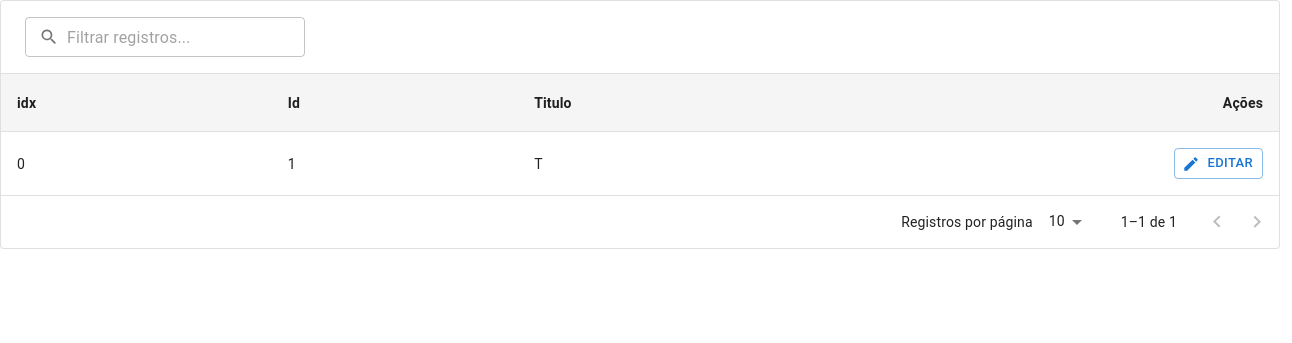
Test: ExternalScreen — submit do edit (st-4) › quando edit tem bodyPath, o payload fica dentro do campo especificado
Click the button "Editar" at (1218, 164), box [1174,148,1263,179]
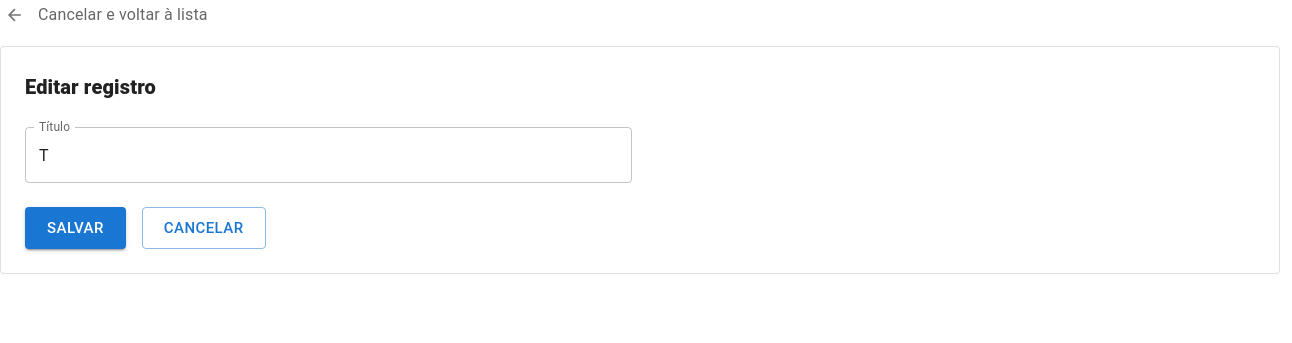
Expected: the heading "Editar registro" is shown, [25,75,156,99]
Replace the text in the field showing "T" with "X" at (328, 155), box [25,127,632,183]
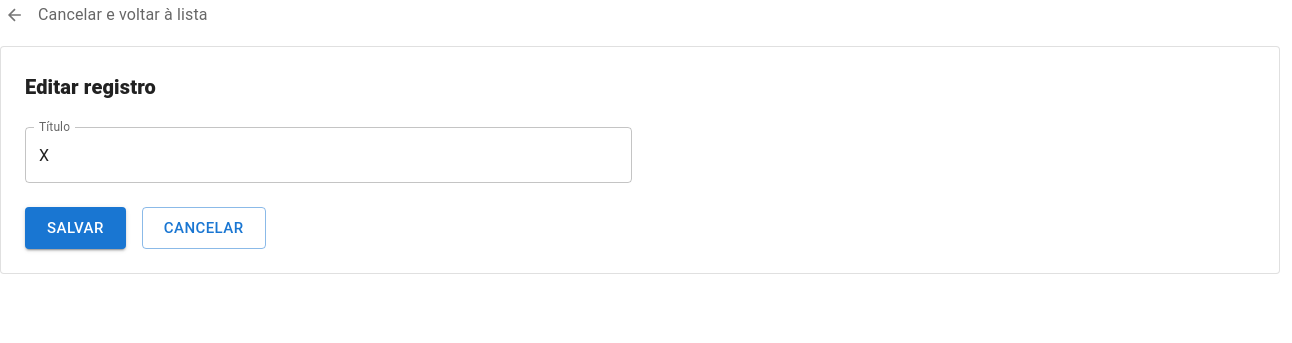
Click the button "Salvar" at (75, 228), box [25,207,126,249]
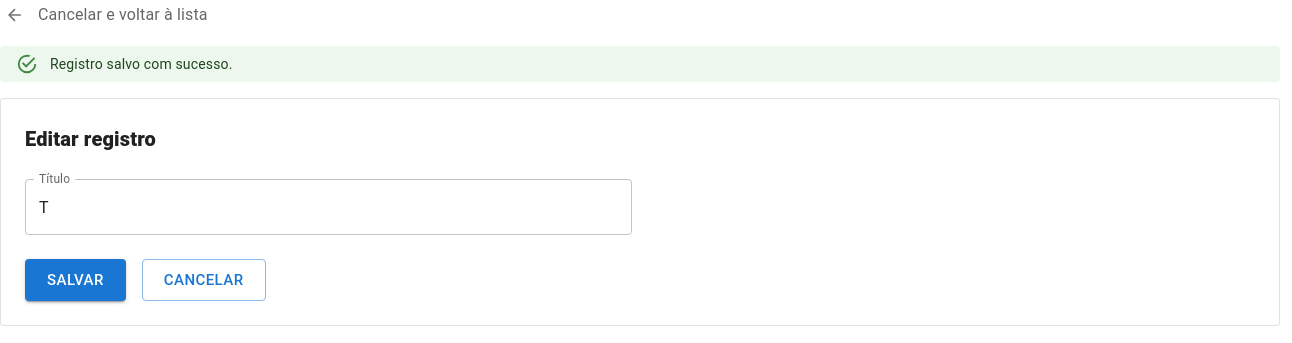
Expected: the text "Registro salvo com sucesso." is shown, [50,56,232,72]
